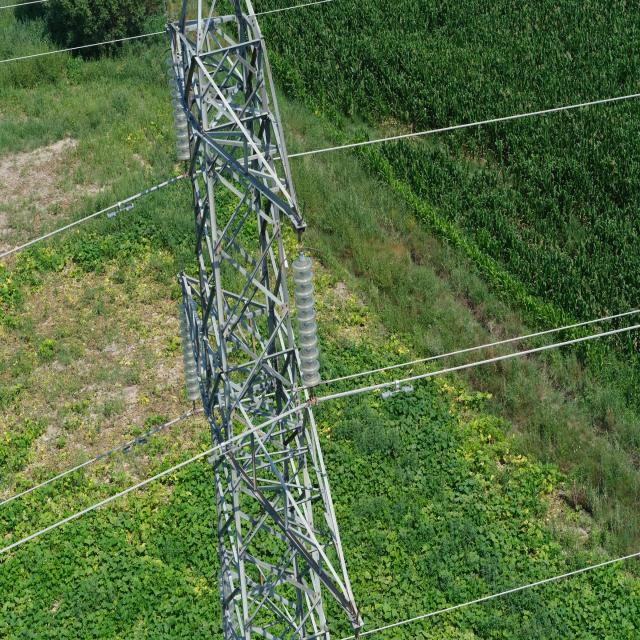direk: (164, 0, 362, 640)
